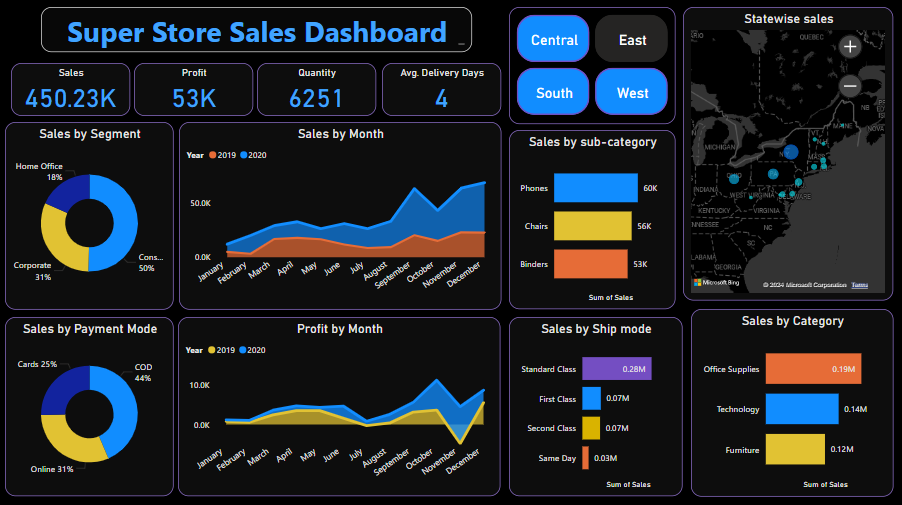

This screenshot's page, from the dashboard's own definition file:
{"tool":"powerbi","page":{"name":"Page 1","canvas":[1280,720],"ordinal":0},"visuals":[{"type":"clusteredBarChart","title":"Sales by sub-category","fields":{"Y":["Sum(SuperStore_Sales_Dataset.Sales)"],"Category":["SuperStore_Sales_Dataset.Sub-Category"]},"box":[723,186.9,236.1,254.1],"z":0},{"type":"barChart","title":"Sales by Category","fields":{"Category":["SuperStore_Sales_Dataset.Category"],"Y":["Sum(SuperStore_Sales_Dataset.Sales)"]},"box":[980.3,441,286.9,265.6],"z":1000},{"type":"clusteredBarChart","title":"Sales by Ship mode","fields":{"Y":["Sum(SuperStore_Sales_Dataset.Sales)"],"Category":["SuperStore_Sales_Dataset.Ship Mode"]},"box":[723,452.5,245.9,254.1],"z":2000},{"type":"stackedAreaChart","title":"Sales by Month","fields":{"Y":["Sum(SuperStore_Sales_Dataset.Sales)"],"Category":["SuperStore_Sales_Dataset.Order Date.Variation.Date Hierarchy.Month","SuperStore_Sales_Dataset.Order Date.Variation.Date Hierarchy.Day"],"Series":["SuperStore_Sales_Dataset.Order Date.Variation.Date Hierarchy.Year"]},"box":[255.7,175.4,457.4,265.6],"z":3000},{"type":"stackedAreaChart","title":"Profit by Month","fields":{"Category":["SuperStore_Sales_Dataset.Order Date.Variation.Date Hierarchy.Month","SuperStore_Sales_Dataset.Order Date.Variation.Date Hierarchy.Day"],"Series":["SuperStore_Sales_Dataset.Order Date.Variation.Date Hierarchy.Year"],"Y":["Sum(SuperStore_Sales_Dataset.Profit)"]},"box":[254.1,452.5,457.4,254.1],"z":4000},{"type":"map","title":"Statewise sales","fields":{"Category":["SuperStore_Sales_Dataset.State"],"Size":["Sum(SuperStore_Sales_Dataset.Sales)"]},"box":[968.9,13.1,298.4,416.4],"z":5000},{"type":"donutChart","title":"Sales by Segment","fields":{"Category":["SuperStore_Sales_Dataset.Segment"],"Y":["Sum(SuperStore_Sales_Dataset.Sales)"]},"box":[8.2,175.4,239.3,265.6],"z":6000},{"type":"donutChart","title":"Sales by Payment Mode","fields":{"Y":["Sum(SuperStore_Sales_Dataset.Sales)"],"Category":["SuperStore_Sales_Dataset.Payment Mode"]},"box":[8.2,452.5,239.3,254.1],"z":7000},{"type":"advancedSlicerVisual","fields":{"Values":["SuperStore_Sales_Dataset.Region"]},"box":[723,13.1,236.1,165.6],"z":8000},{"type":"textbox","title":"Super Store Sales Dashboard","box":[59,13.1,611.5,63.9],"z":9000},{"type":"card","title":"Sales","fields":{"Values":["Sum(SuperStore_Sales_Dataset.Sales)"]},"box":[16.4,91.8,168.9,75.4],"z":10000},{"type":"card","title":"Profit","fields":{"Values":["Sum(SuperStore_Sales_Dataset.Profit)"]},"box":[191.8,91.8,168.9,75.4],"z":11000},{"type":"card","title":"Quantity","fields":{"Values":["Sum(SuperStore_Sales_Dataset.Quantity)"]},"box":[365.6,91.8,168.9,75.4],"z":12000},{"type":"card","title":"Avg. Delivery Days","fields":{"Values":["Avg(SuperStore_Sales_Dataset.AvgDelivery)"]},"box":[542.6,91.8,168.9,75.4],"z":13000}]}

Visuals, with their boxes in screenshot pixels (x1, y1, x2, y2), scaled from the page's 1280x720 canvas onto the 902x505 screenshot:
"Sales by sub-category" clusteredBarChart: 509, 131, 676, 309
"Sales by Category" barChart: 691, 309, 893, 496
"Sales by Ship mode" clusteredBarChart: 509, 317, 683, 496
"Sales by Month" stackedAreaChart: 180, 123, 503, 309
"Profit by Month" stackedAreaChart: 179, 317, 501, 496
"Statewise sales" map: 683, 9, 893, 301
"Sales by Segment" donutChart: 6, 123, 174, 309
"Sales by Payment Mode" donutChart: 6, 317, 174, 496
advancedSlicerVisual - SuperStore_Sales_Dataset.Region: 509, 9, 676, 125
"Super Store Sales Dashboard" textbox: 42, 9, 472, 54
"Sales" card: 12, 64, 131, 117
"Profit" card: 135, 64, 254, 117
"Quantity" card: 258, 64, 377, 117
"Avg. Delivery Days" card: 382, 64, 501, 117
